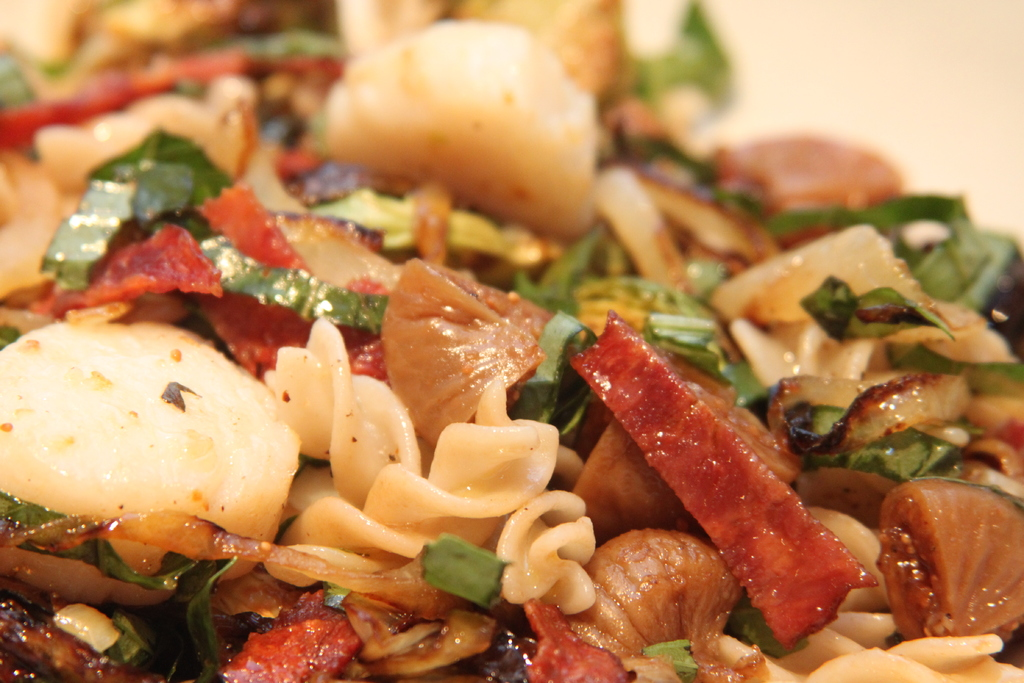pasta: (1, 5, 1023, 682)
